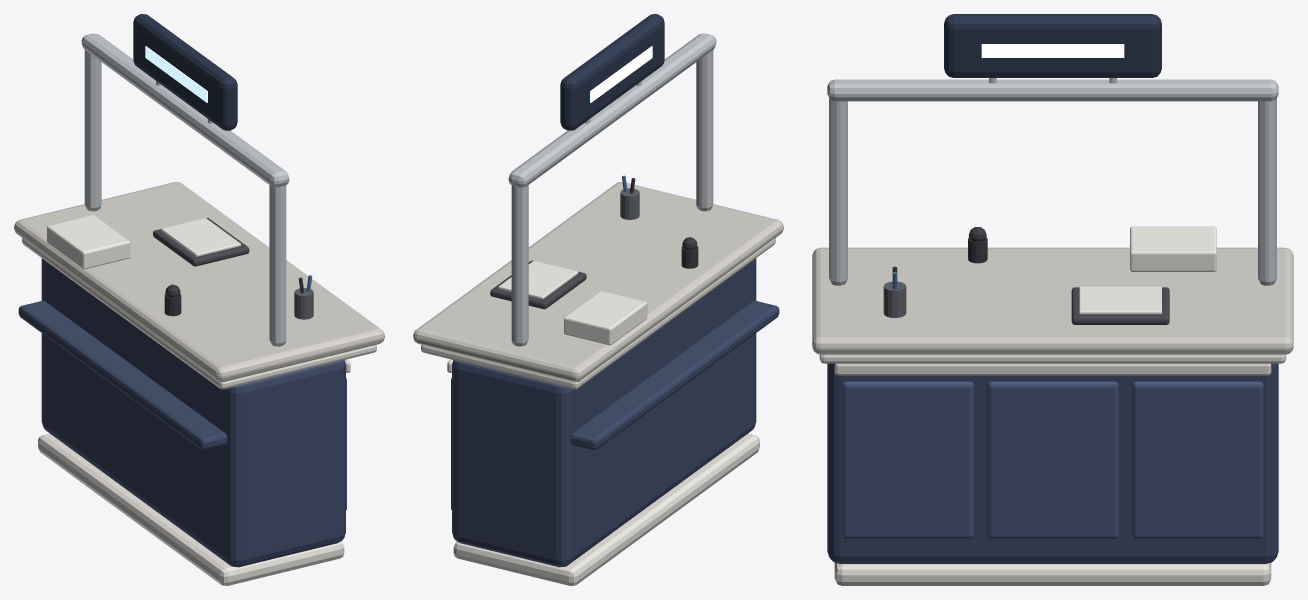
File: service_counter.glb
The picture shows the model from 3 angles, left to right: view 1: azimuth 30°, elevation 25°; view 2: azimuth 150°, elevation 25°; view 3: azimuth 270°, elevation 25°; orthographic projection. The views are drawn at different scales.
Visible parts, largest first — view 1: ServiceCounterSetMesh; view 2: ServiceCounterSetMesh; view 3: ServiceCounterSetMesh.
Boxes of the visible parts, left/top/right/bottom form: ServiceCounterSetMesh: left=14, top=14, right=384, bottom=585; ServiceCounterSetMesh: left=413, top=14, right=783, bottom=585; ServiceCounterSetMesh: left=812, top=14, right=1293, bottom=585.
Size of the model in its own units: 0.62 by 1.57 by 1.28.
